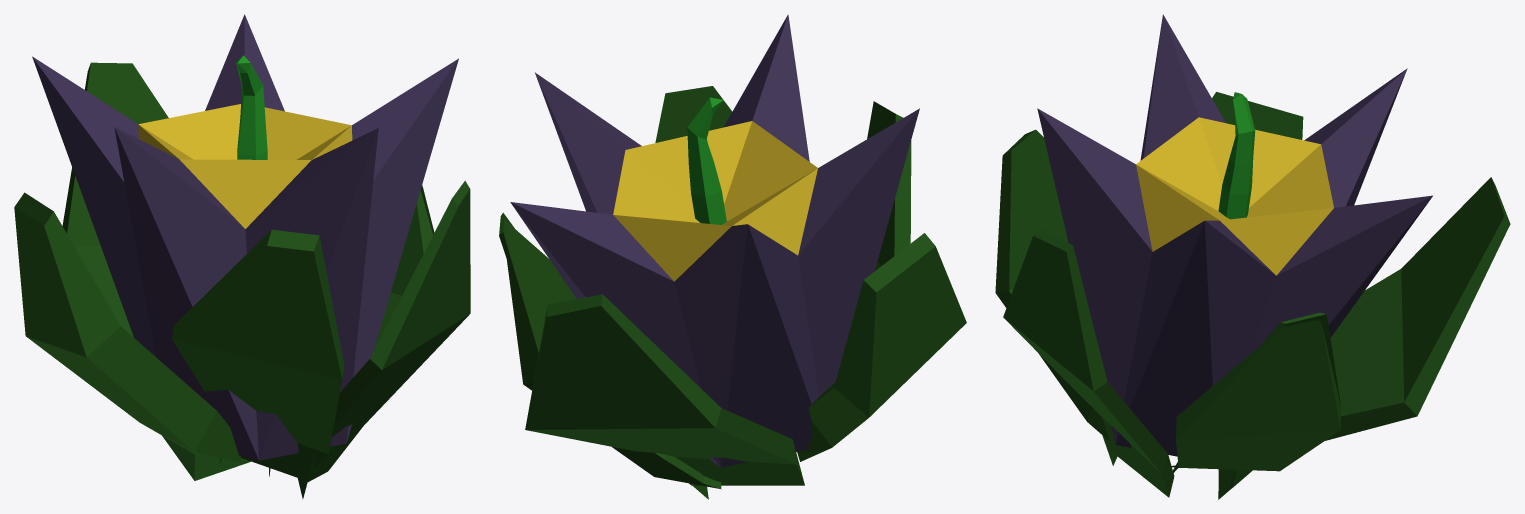
Rendered from flower_simple.fbx.
3 views of the same model, side by side, from view 1: azimuth 30°, elevation 25°; view 2: azimuth 150°, elevation 25°; view 3: azimuth 270°, elevation 25° (orthographic). The views are drawn at different scales.
Visible parts, largest first — view 1: floweronly; view 2: floweronly; view 3: floweronly.
Part boxes in pixels (left/top/right/bottom): floweronly: left=14, top=14, right=470, bottom=499; floweronly: left=499, top=14, right=966, bottom=499; floweronly: left=995, top=14, right=1510, bottom=499.
Bounding box in the file's own units: 0.4243 × 0.4142 × 0.4832.
